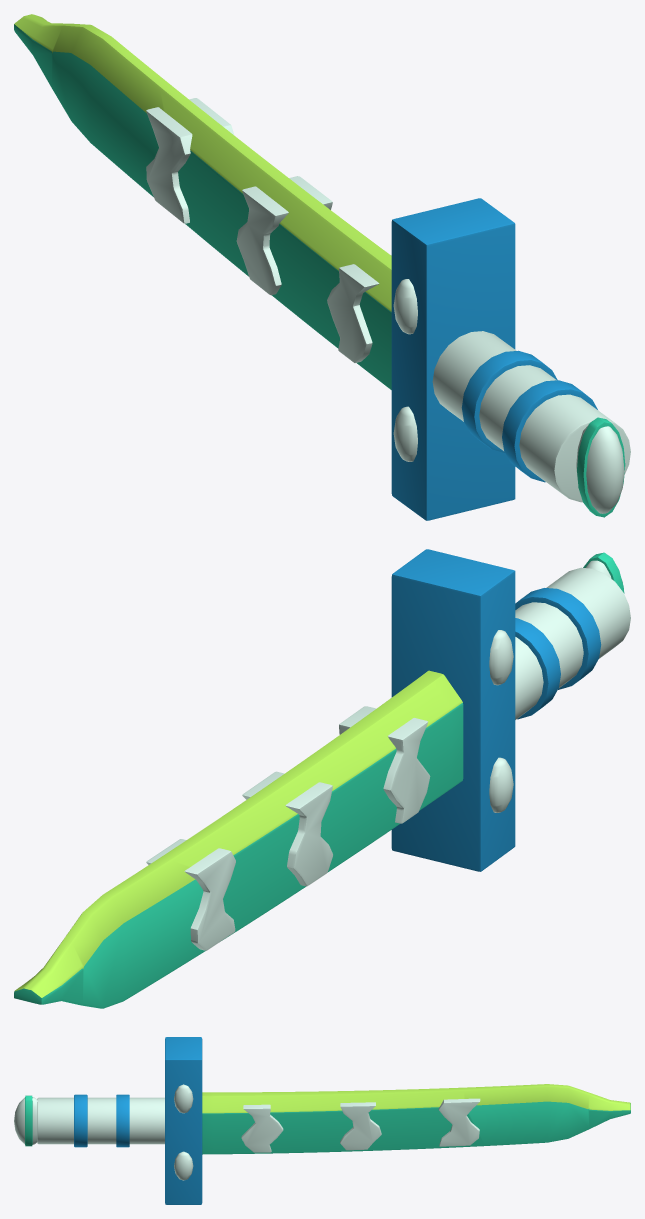
The model's file is Sword_SiltSabre.glb.
The picture shows the model from 3 angles, top to bottom: view 1: azimuth 30°, elevation 25°; view 2: azimuth 150°, elevation 25°; view 3: azimuth 270°, elevation 25°; orthographic projection. The views are drawn at different scales.
Parts seen in each view (by area): view 1: Sword_SiltSabre; view 2: Sword_SiltSabre; view 3: Sword_SiltSabre.
Part boxes in pixels (x1=…): Sword_SiltSabre: x1=14, y1=14, x2=630, y2=520; Sword_SiltSabre: x1=14, y1=549, x2=630, y2=1008; Sword_SiltSabre: x1=14, y1=1037, x2=630, y2=1204.
Size of the model in its own units: 0.112 by 0.26 by 1.
Materials: 1 (1 with a texture image).
